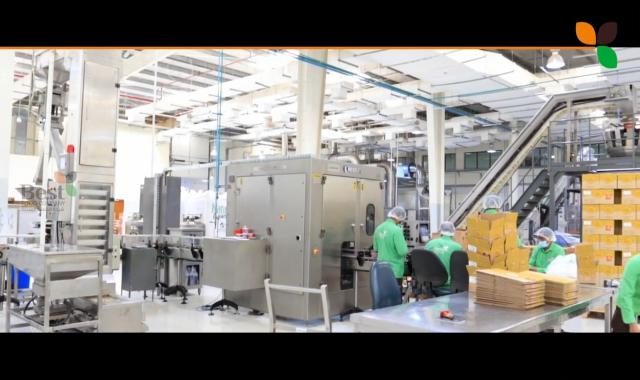hairnet: (536, 224, 557, 246), (482, 193, 503, 211), (387, 204, 404, 224), (437, 222, 455, 237)
